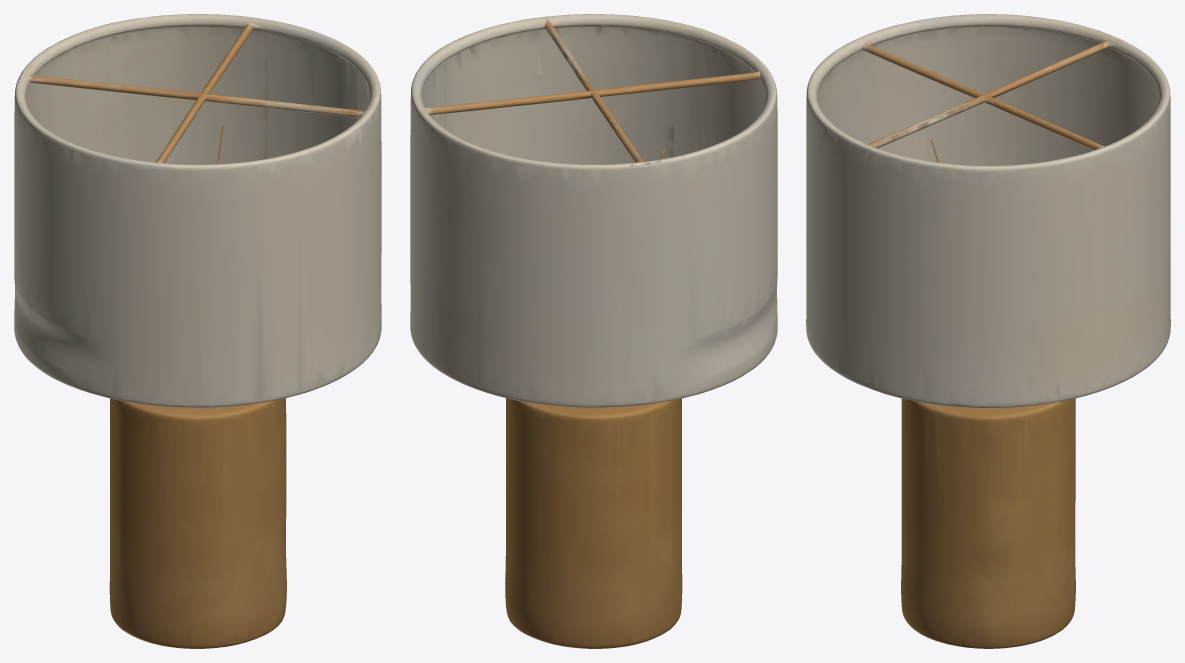
3 views of the same model, side by side, from view 1: azimuth 30°, elevation 25°; view 2: azimuth 150°, elevation 25°; view 3: azimuth 270°, elevation 25° (orthographic).
Visible parts, largest first — view 1: material; view 2: material; view 3: material.
Part boxes in pixels (box(x1,y1,x2,y2)): material: box(14, 14, 381, 648); material: box(410, 14, 777, 648); material: box(806, 14, 1170, 648).
Size of the model in its own units: 0.6479 by 1.01 by 0.6416.
1 material, 1 textured.
